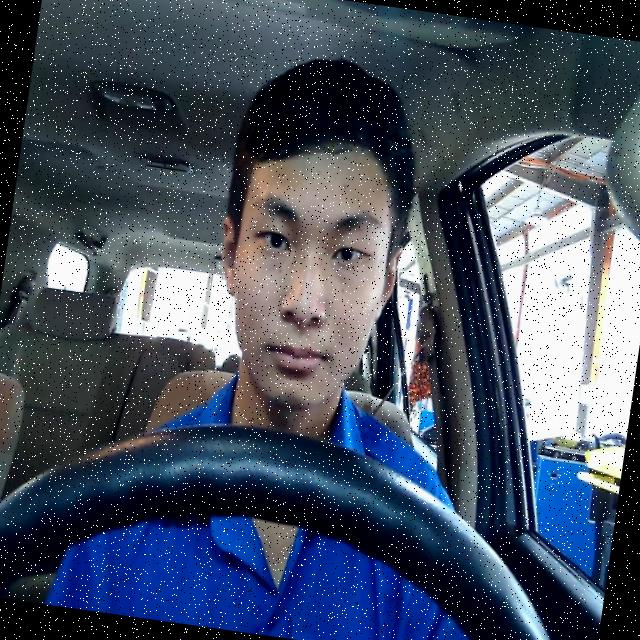focused: (198, 128, 416, 418)
